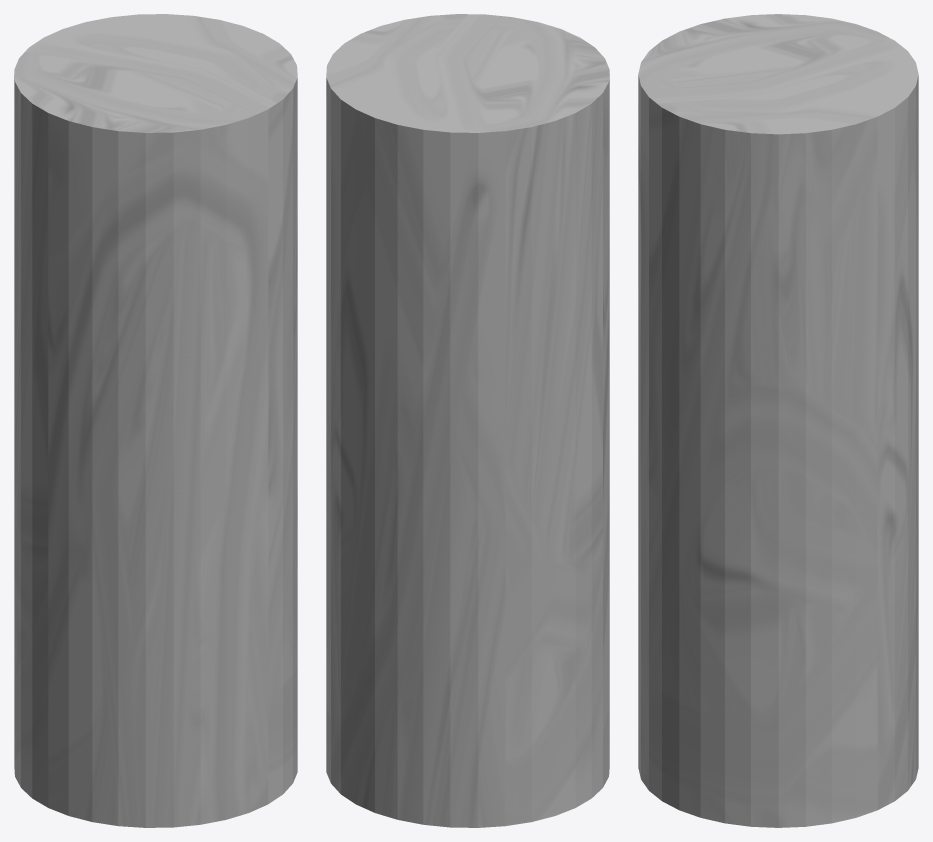
File: Worm.obj
3 renders of one model, left to right at view 1: azimuth 30°, elevation 25°; view 2: azimuth 150°, elevation 25°; view 3: azimuth 270°, elevation 25°, orthographic.
Parts seen in each view (by area): view 1: 円柱; view 2: 円柱; view 3: 円柱.
Part boxes in pixels (box(x1,y1,x2,y2)): 円柱: box(14, 14, 297, 827); 円柱: box(326, 14, 609, 827); 円柱: box(638, 14, 918, 827).
Bounding box in the file's own units: 1.27 × 3.41 × 1.25.
1 material, 1 textured.
